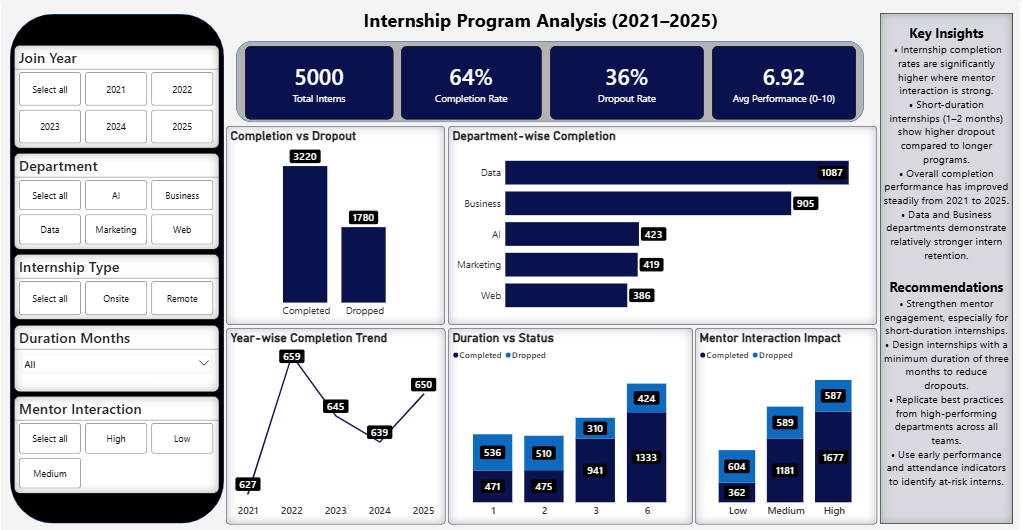

The page's visual inventory and layout, read from the dashboard file:
{"tool":"powerbi","page":{"name":"Overview","canvas":[2080,1080],"ordinal":0},"visuals":[{"type":"shape","box":[17.9,22.4,437.1,1040],"z":0},{"type":"shape","box":[486,79.3,1272,165.3],"z":1000},{"type":"lineChart","title":"Year-wise Completion Trend","fields":{"Category":["Sheet1.Join_Year"],"Y":["Count(Sheet1.Intern_ID)"]},"box":[459.5,663.4,448.3,401.2],"z":2000},{"type":"clusteredBarChart","title":"Department-wise Completion","fields":{"Category":["Sheet1.Department"],"Y":["Count(Sheet1.Intern_ID)"]},"box":[912.2,251,876,405.7],"z":3000},{"type":"advancedSlicerVisual","title":"Join Year","fields":{"Values":["Sheet1.Join_Year"]},"box":[27,85,419.1,210.7],"z":4000},{"type":"clusteredColumnChart","title":"Completion vs Dropout","fields":{"Category":["Sheet1.Status"],"Y":["Count(Sheet1.Intern_ID)"]},"box":[459,251.3,447.4,405.6],"z":5000},{"type":"shape","box":[533.4,0,1138.6,67.2],"z":6000},{"type":"columnChart","title":"Duration vs Status","fields":{"Category":["Sheet1.Duration_Months"],"Y":["Count(Sheet1.Intern_ID)"],"Series":["Sheet1.Status"]},"box":[912.5,663.4,500,401.1],"z":7000},{"type":"columnChart","title":"Mentor Interaction Impact","fields":{"Category":["Sheet1.Mentor_Interaction"],"Y":["Count(Sheet1.Intern_ID)"],"Series":["Sheet1.Status"]},"box":[1416.6,663.4,372.1,401.2],"z":8000},{"type":"advancedSlicerVisual","title":"Internship Type","fields":{"Values":["Sheet1.Internship_Type"]},"box":[27,513.1,419.1,134.5],"z":9000},{"type":"slicer","title":"Duration Months","fields":{"Values":["Sheet1.Duration_Months"]},"box":[27,656.5,418.8,136.7],"z":10000},{"type":"textbox","box":[1794.1,19.8,271.1,1042.5],"z":11000},{"type":"advancedSlicerVisual","title":"Department","fields":{"Values":["Sheet1.Department"]},"box":[27,306.9,419.1,197.2],"z":12000},{"type":"advancedSlicerVisual","title":"Mentor Interaction","fields":{"Values":["Sheet1.Mentor_Interaction"]},"box":[27,802.3,419.1,199.5],"z":13000},{"type":"card","fields":{"Values":["Sheet1.Dropout Rate %"]},"box":[1121.3,88.1,313.8,150.2],"z":14000},{"type":"card","fields":{"Values":["Avg(Sheet1.Performance_Score)"]},"box":[1452.4,87.4,293.6,150.2],"z":15000},{"type":"card","fields":{"Values":["Count(Sheet1.Intern_ID)"]},"box":[497.6,87.4,302.6,150.2],"z":16000},{"type":"card","fields":{"Values":["Sheet1.Completion Rate %"]},"box":[816.4,88.1,286.9,150.2],"z":17000}]}

Visuals, with their boxes in screenshot pixels (x1, y1, x2, y2), scaled from the page's 2080x1080 canvas onto the 1022x530 screenshot:
shape: (9,11,224,521)
shape: (239,39,864,120)
"Year-wise Completion Trend" lineChart: (226,326,446,522)
"Department-wise Completion" clusteredBarChart: (448,123,879,322)
"Join Year" advancedSlicerVisual: (13,42,219,145)
"Completion vs Dropout" clusteredColumnChart: (226,123,445,322)
shape: (262,0,822,33)
"Duration vs Status" columnChart: (448,326,694,522)
"Mentor Interaction Impact" columnChart: (696,326,879,522)
"Internship Type" advancedSlicerVisual: (13,252,219,318)
"Duration Months" slicer: (13,322,219,389)
textbox: (882,10,1015,521)
"Department" advancedSlicerVisual: (13,151,219,247)
"Mentor Interaction" advancedSlicerVisual: (13,394,219,492)
card - Sheet1.Dropout Rate %: (551,43,705,117)
card - Avg(Sheet1.Performance_Score): (714,43,858,117)
card - Count(Sheet1.Intern_ID): (244,43,393,117)
card - Sheet1.Completion Rate %: (401,43,542,117)
